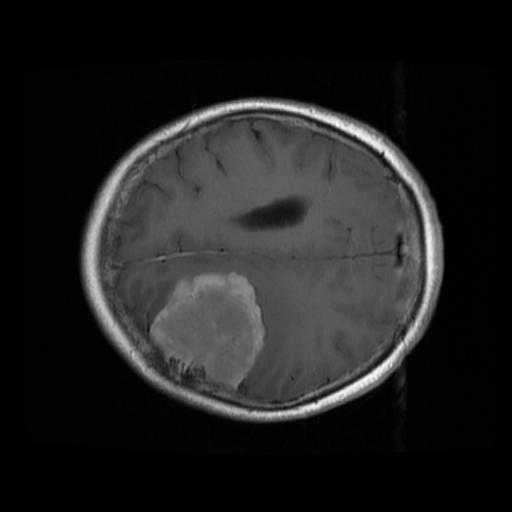meningioma: (147, 271, 265, 392)
